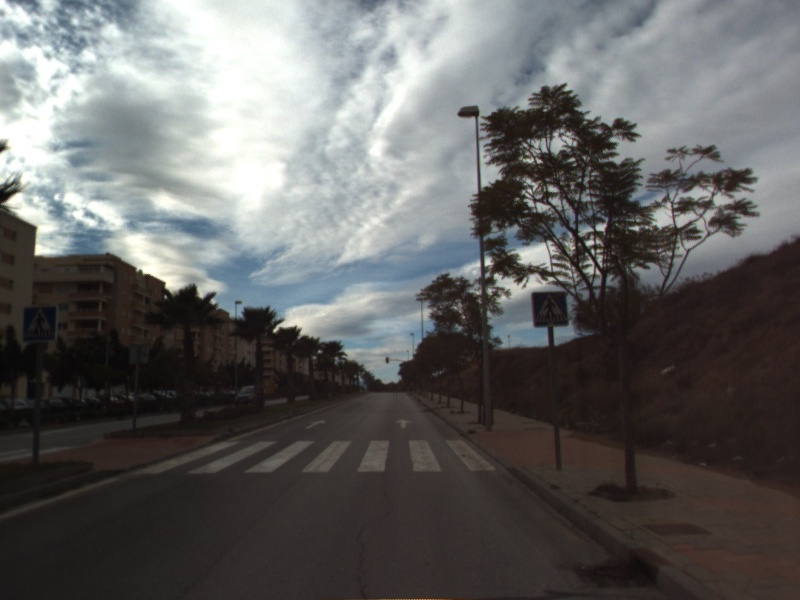STRAIGHT: (302, 417, 329, 431), (393, 417, 414, 431)
